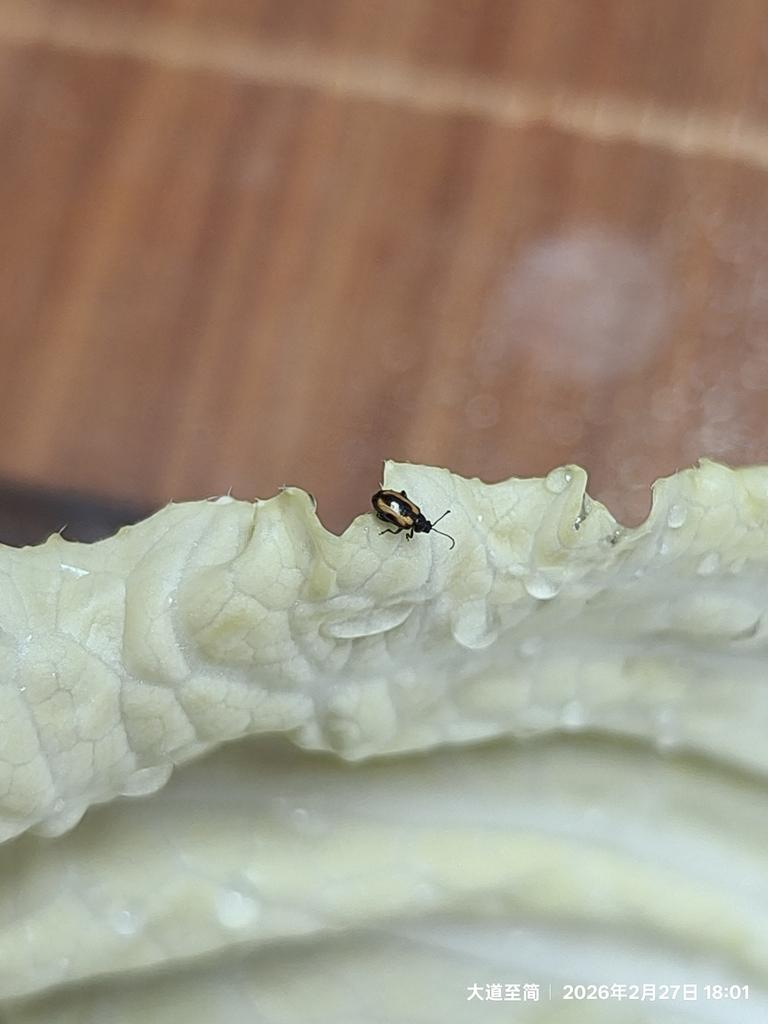flea_beetle: (364, 473, 464, 568)
